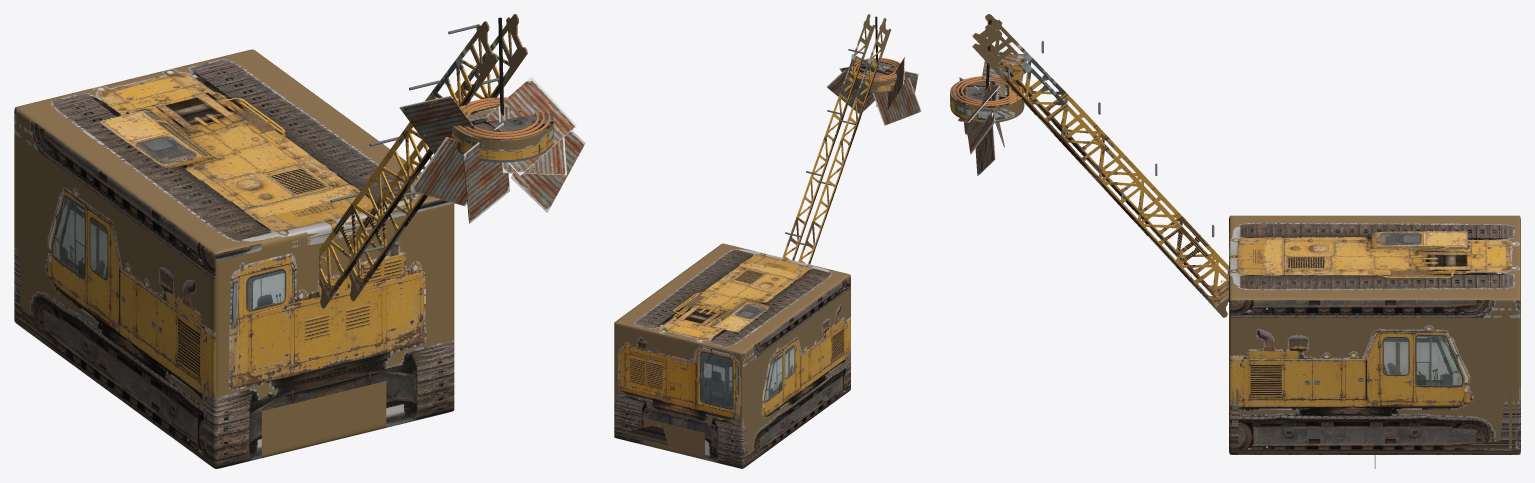
The model's file is peace-crane.glb.
3 renders of one model, left to right at view 1: azimuth 30°, elevation 25°; view 2: azimuth 150°, elevation 25°; view 3: azimuth 270°, elevation 25°, orthographic. The views are drawn at different scales.
Visible parts, largest first — view 1: magnus-crane:body, magnus-crane:boom-frame-near, magnus-crane:boom-frame-far, magnus-crane:magnet-shell, magnus-crane:stuck-roof-1.001, magnus-crane:stuck-roof-6.001, magnus-crane:stuck-roof-5.001, magnus-crane:stuck-roof-3.001, magnus-crane:stuck-roof-2.001, magnus-crane:stuck-roof-4.001; view 2: magnus-crane:body, magnus-crane:boom-frame-near, magnus-crane:boom-frame-far, magnus-crane:stuck-roof-1.001, magnus-crane:magnet-shell, magnus-crane:stuck-roof-2.001, magnus-crane:stuck-roof-3.001; view 3: magnus-crane:body, magnus-crane:boom-frame-far, magnus-crane:boom-frame-near, magnus-crane:magnet-shell, magnus-crane:stuck-roof-2.001, magnus-crane:stuck-roof-4.001.
Boxes of the visible parts, box(x1,y1,x2,y2) form: magnus-crane:body: box(14, 49, 454, 468); magnus-crane:boom-frame-near: box(319, 21, 498, 308); magnus-crane:boom-frame-far: box(349, 14, 527, 301); magnus-crane:magnet-shell: box(451, 101, 553, 160); magnus-crane:stuck-roof-1.001: box(410, 137, 467, 206); magnus-crane:stuck-roof-6.001: box(484, 76, 576, 175); magnus-crane:stuck-roof-5.001: box(463, 122, 509, 223); magnus-crane:stuck-roof-3.001: box(399, 95, 474, 154); magnus-crane:stuck-roof-2.001: box(511, 130, 585, 212); magnus-crane:stuck-roof-4.001: box(497, 106, 566, 175); magnus-crane:body: box(614, 243, 850, 468); magnus-crane:boom-frame-near: box(798, 18, 891, 264); magnus-crane:boom-frame-far: box(782, 14, 875, 260); magnus-crane:stuck-roof-1.001: box(872, 78, 921, 125); magnus-crane:magnet-shell: box(849, 60, 904, 91); magnus-crane:stuck-roof-2.001: box(827, 66, 875, 113); magnus-crane:stuck-roof-3.001: box(887, 57, 905, 110); magnus-crane:body: box(1229, 215, 1520, 454); magnus-crane:boom-frame-far: box(972, 24, 1228, 317); magnus-crane:boom-frame-near: box(972, 14, 1228, 306); magnus-crane:magnet-shell: box(950, 79, 1024, 121); magnus-crane:stuck-roof-2.001: box(975, 112, 995, 175); magnus-crane:stuck-roof-4.001: box(966, 82, 995, 154).
Size of the model in its own units: 8.1 by 19.44 by 23.01.
Materials: 10 (5 with a texture image).
